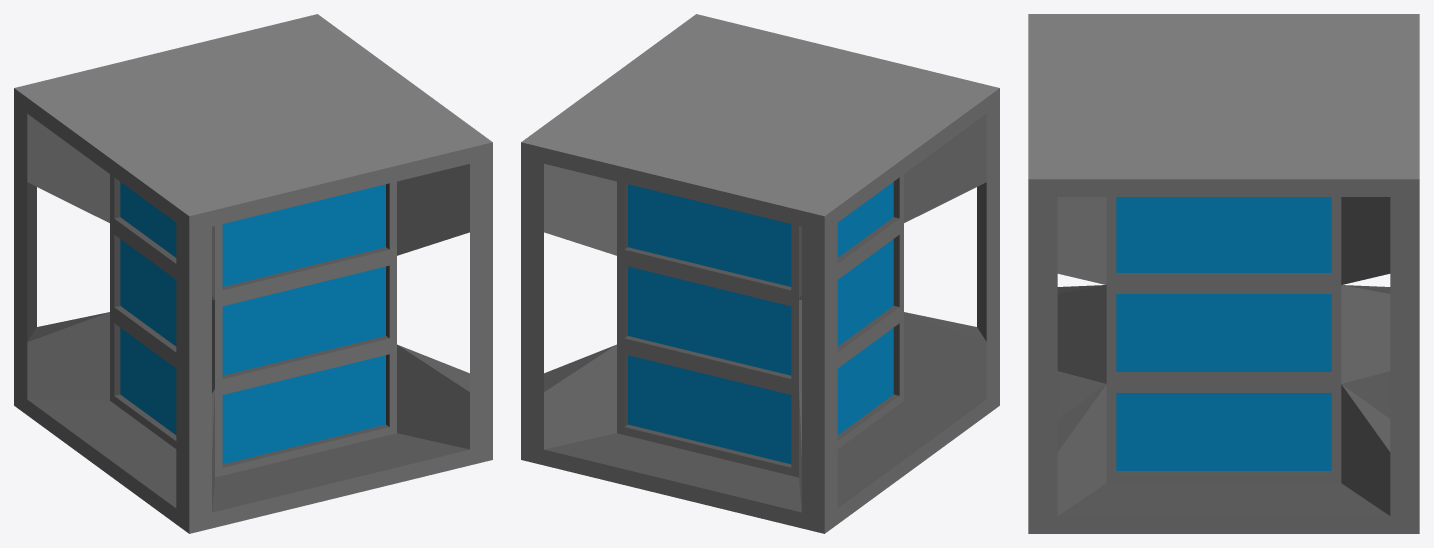
Rendered from Floor4.glb.
3 renders of one model, left to right at view 1: azimuth 30°, elevation 25°; view 2: azimuth 150°, elevation 25°; view 3: azimuth 270°, elevation 25°, orthographic. The views are drawn at different scales.
Visible parts, largest first — view 1: Cube; view 2: Cube; view 3: Cube.
Boxes of the visible parts, x1,y1,x2,y2 form: Cube: [14, 14, 492, 533]; Cube: [521, 14, 999, 533]; Cube: [1028, 14, 1419, 533].
Size of the model in its own units: 16 by 16 by 16.
2 materials, 2 textured.
